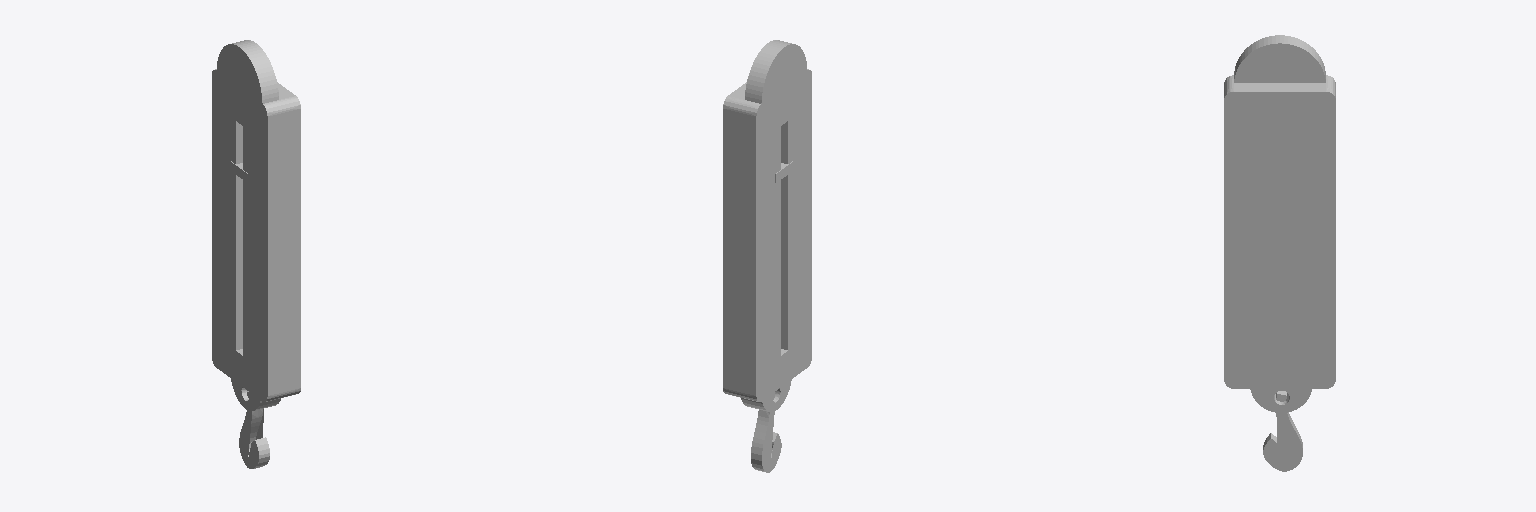
File: springBalance.obj
3 renders of one model, left to right at view 1: azimuth 30°, elevation 25°; view 2: azimuth 150°, elevation 25°; view 3: azimuth 270°, elevation 25°, orthographic.
Parts seen in each view (by area): view 1: Layer_01; view 2: Layer_01; view 3: Layer_01.
Boxes of the visible parts, x1,y1,x2,y2 form: Layer_01: [212, 40, 300, 468]; Layer_01: [723, 40, 811, 472]; Layer_01: [1224, 35, 1335, 471].
Size of the model in its own units: 0.995 by 11.79 by 2.81.